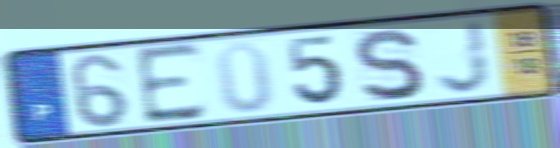0: (214, 39, 276, 116)
5: (286, 32, 347, 108)
6: (69, 51, 133, 131)
E: (131, 39, 210, 128)
J: (433, 18, 495, 97)
S: (350, 26, 426, 105)
